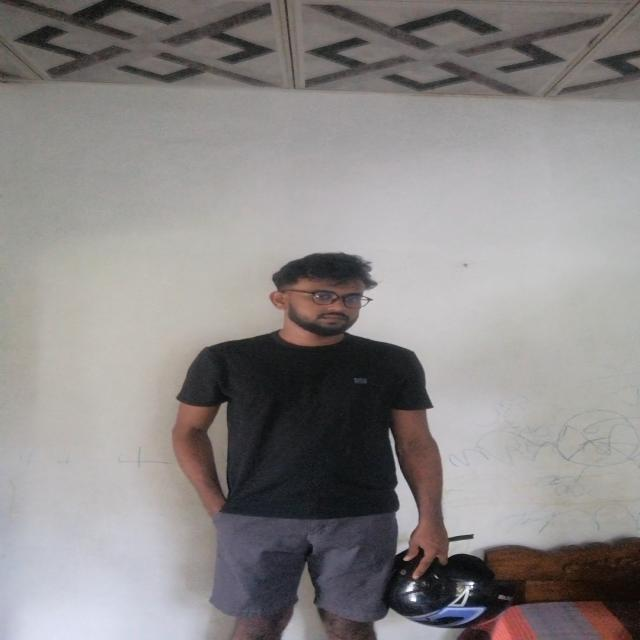Person: (176, 246, 457, 640)
